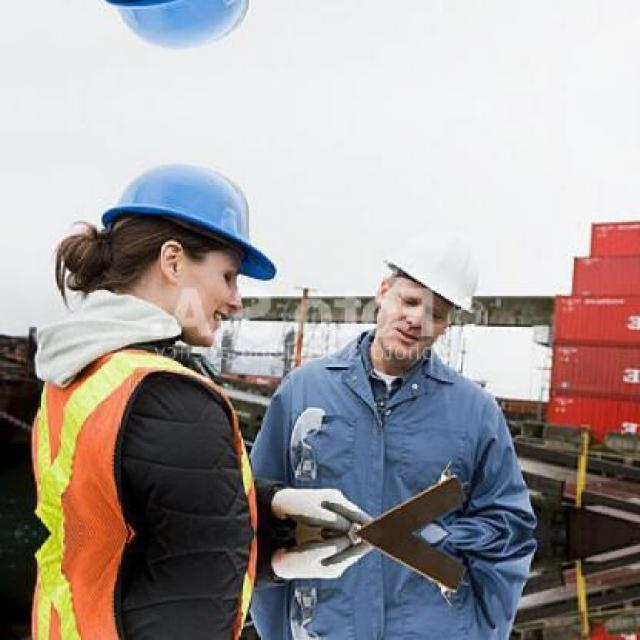reflective_jacket: (16, 345, 258, 630)
safety_helmet: (92, 153, 286, 287), (372, 220, 490, 317)
